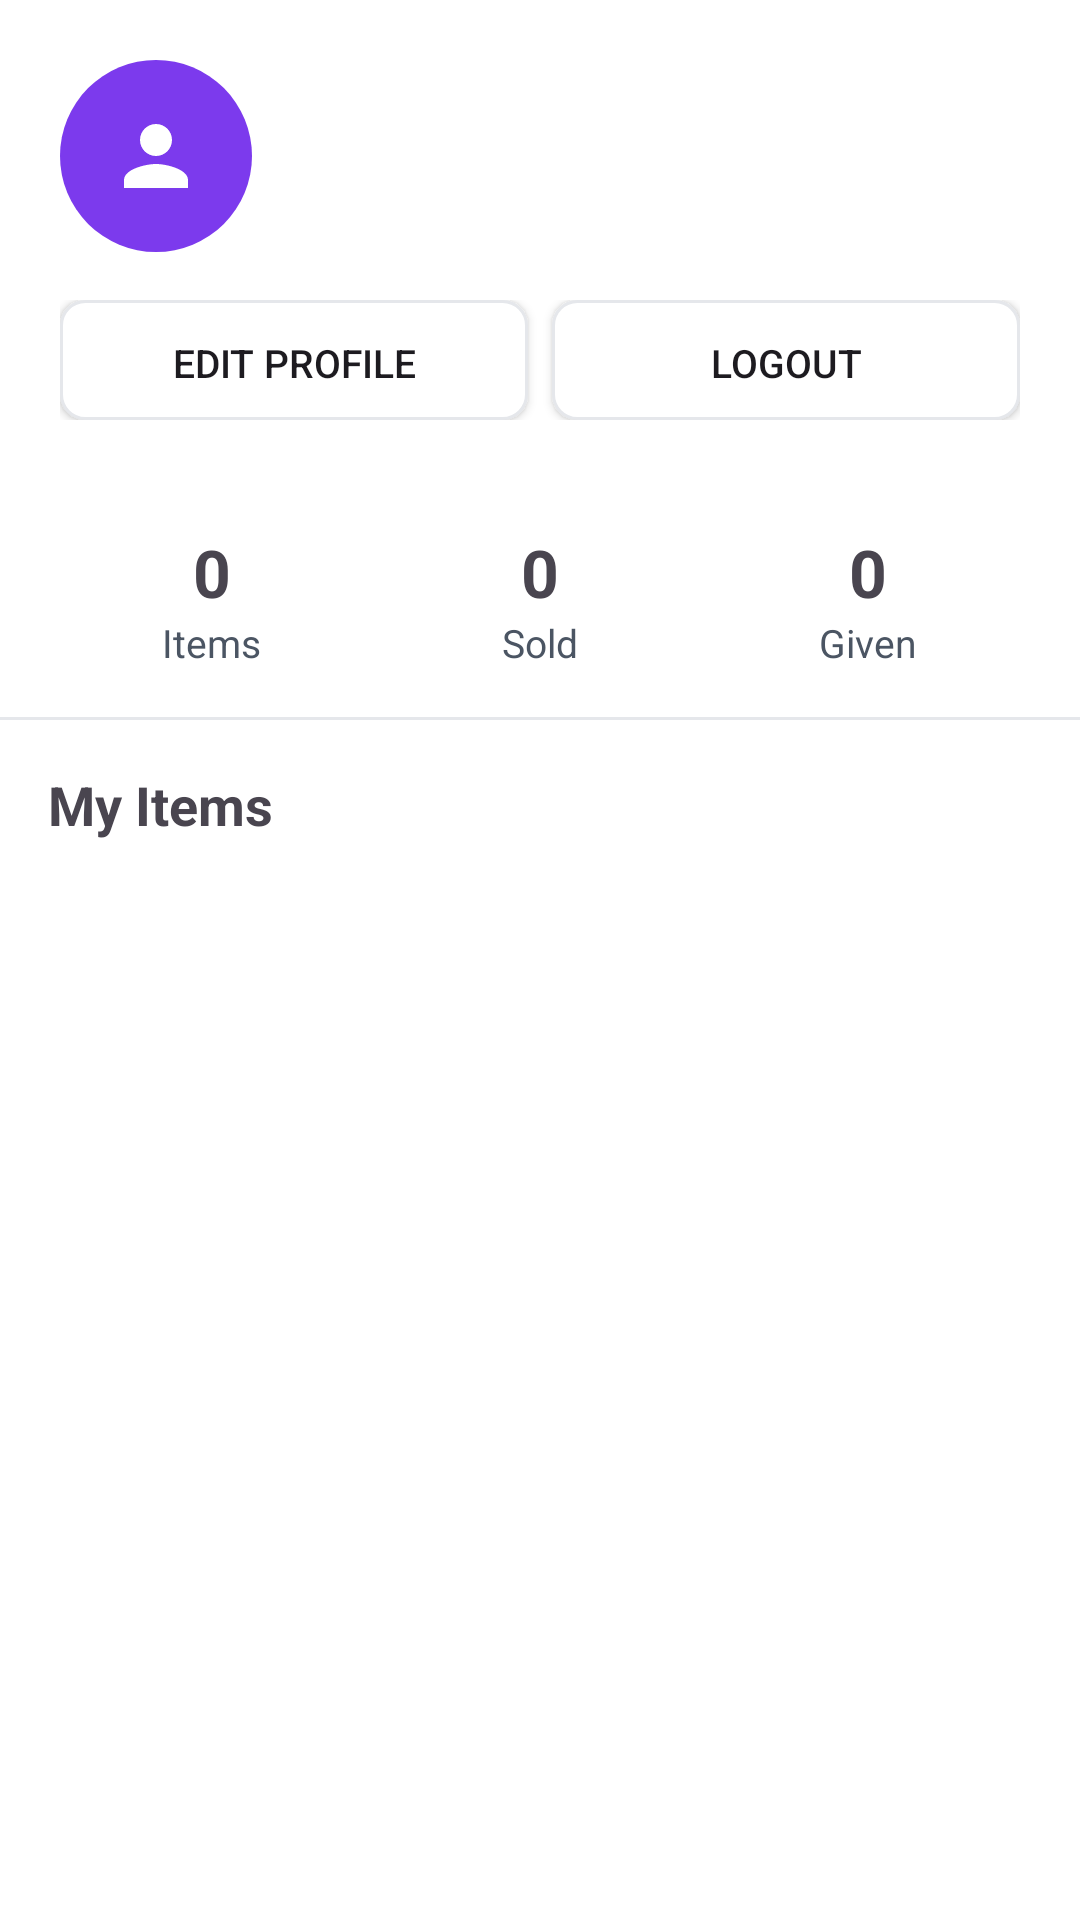

Icon click points for this 1080*1920 phone screenshot, format point (x, y):
person: point (156, 156)
